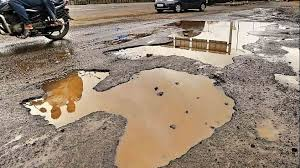potholes: (87, 74, 147, 132)
